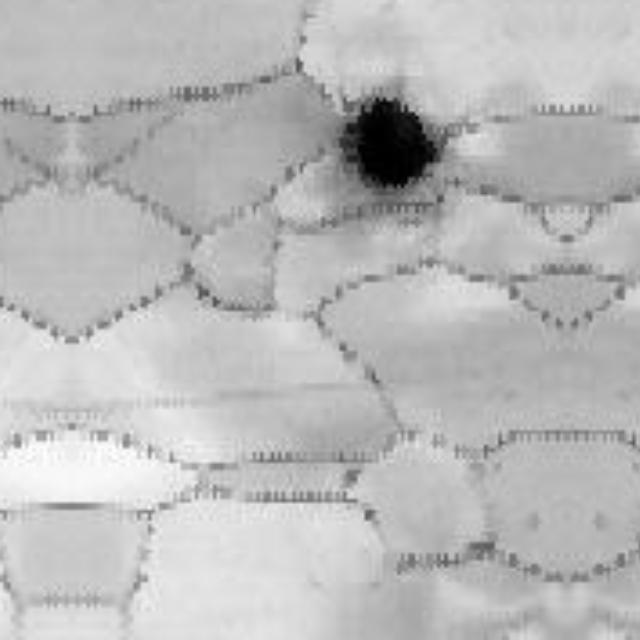good_void: (329, 85, 454, 200)
